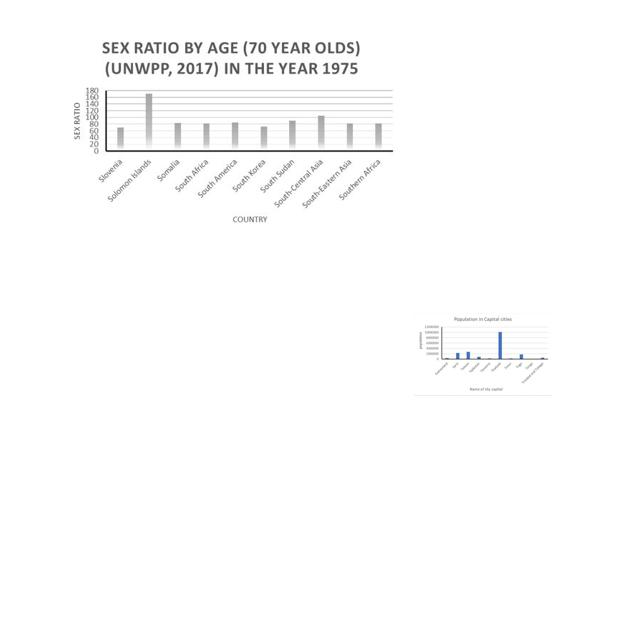Graph: (67, 35, 398, 228), (414, 313, 552, 396)
